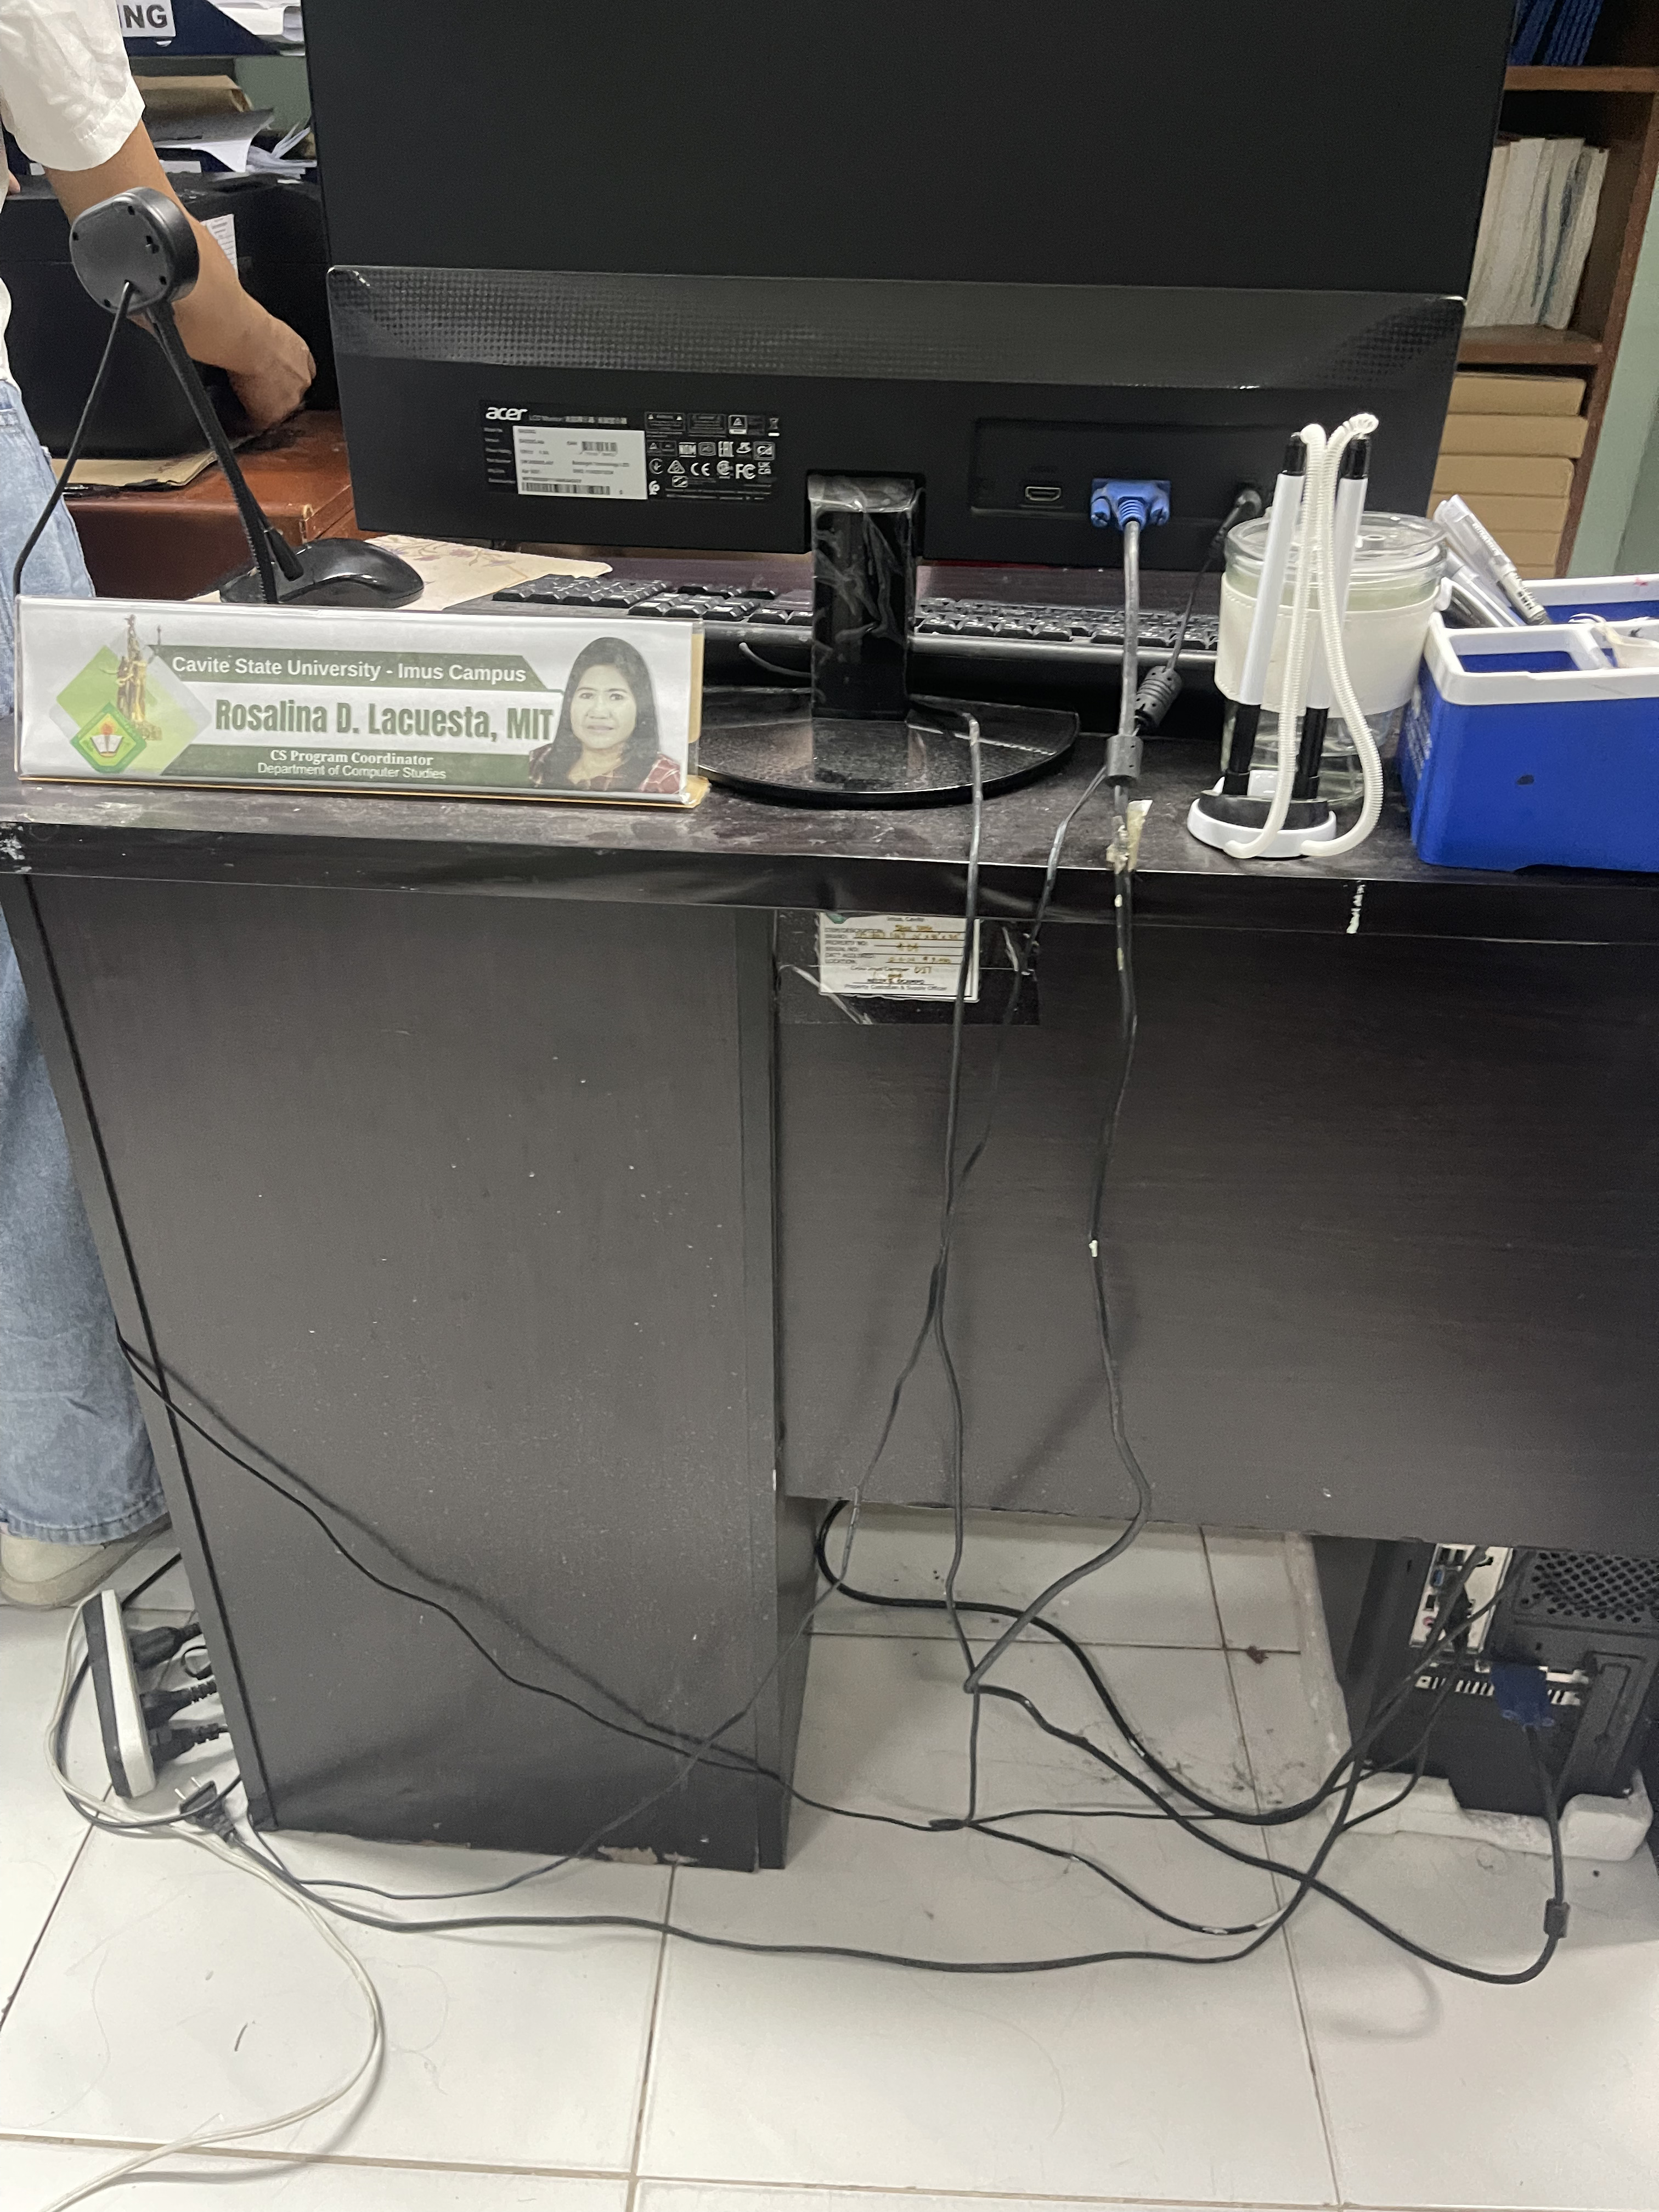table1: (3, 557, 1659, 1975)
